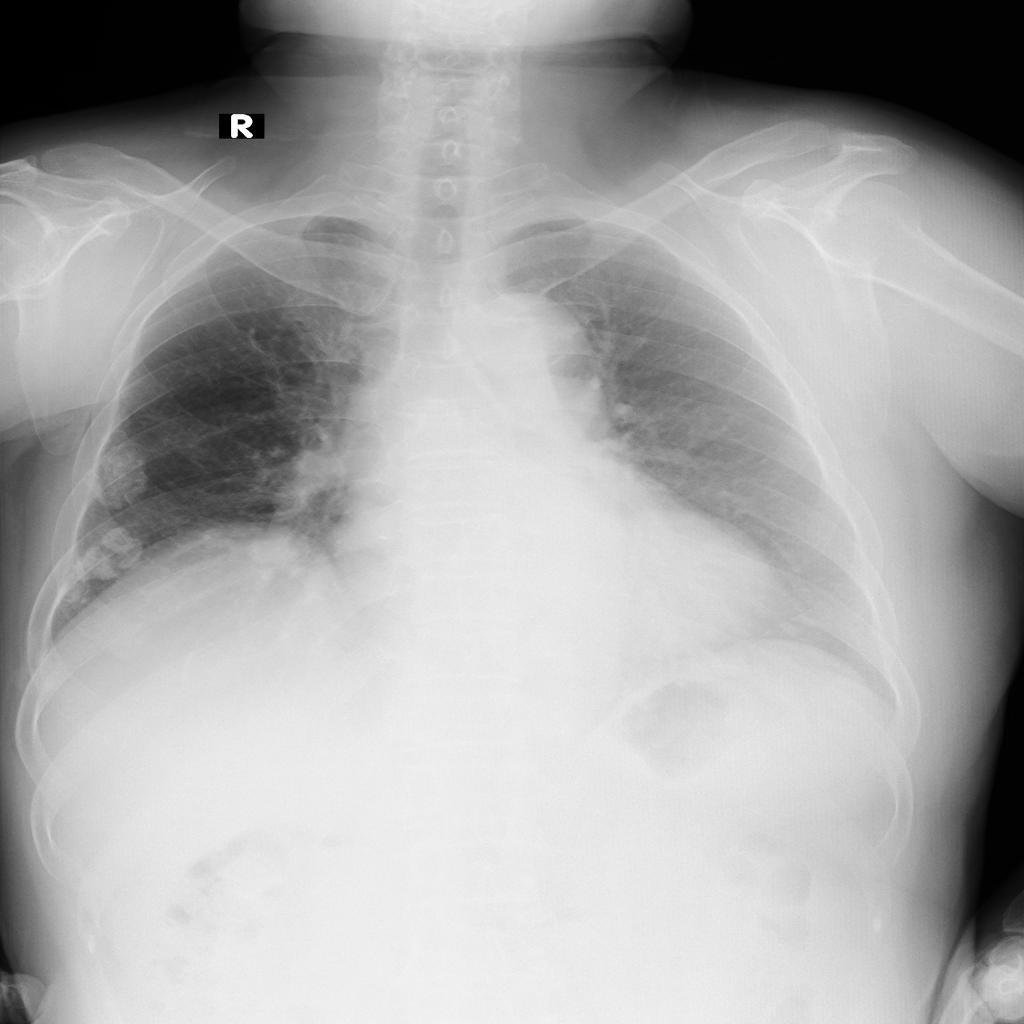Nodule: (58, 527, 144, 608), (86, 443, 147, 510)
